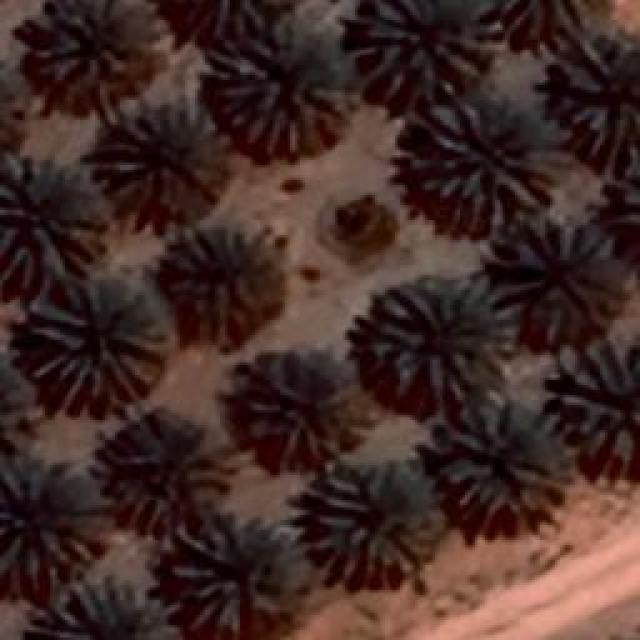PalmTree: (407, 90, 565, 228), (208, 18, 358, 158), (22, 272, 168, 406), (362, 278, 516, 400), (300, 455, 442, 583), (90, 410, 235, 532), (428, 392, 570, 510), (228, 360, 370, 470), (342, 0, 495, 102), (90, 100, 230, 210), (160, 222, 285, 342), (491, 228, 619, 340), (165, 515, 280, 635), (1, 155, 103, 290), (558, 28, 638, 162), (0, 462, 92, 575), (20, 574, 178, 638), (567, 353, 640, 486), (35, 2, 130, 90), (584, 160, 640, 302), (481, 0, 610, 54), (162, 0, 291, 54), (0, 68, 34, 158), (0, 363, 30, 465)
